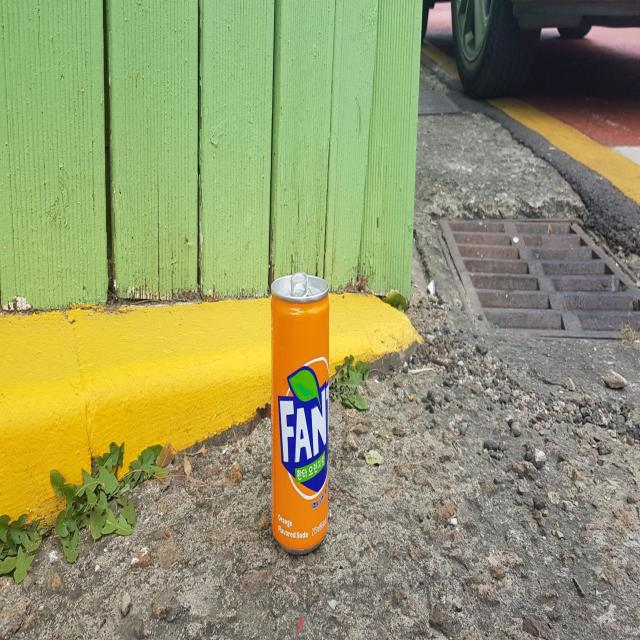can: (271, 271, 330, 551)
